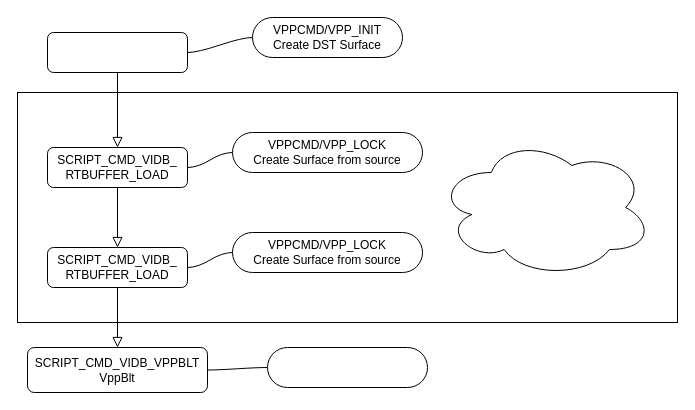
Image size: 695x410. Some labels were removed from this diagram. Each missing label, with the centre of its shape:
"at most 3 input buffer" goes at point (544, 207).
"SCRIPT_CMD_VIDB_ MCCREATEPPDEVICE" goes at point (117, 52).
"VPPCMD/VPP_EXEC vpmi9_KickOffVpp()" goes at point (347, 367).
